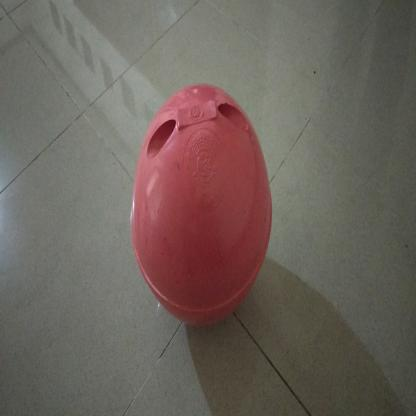red_buoy: (128, 81, 276, 330)
